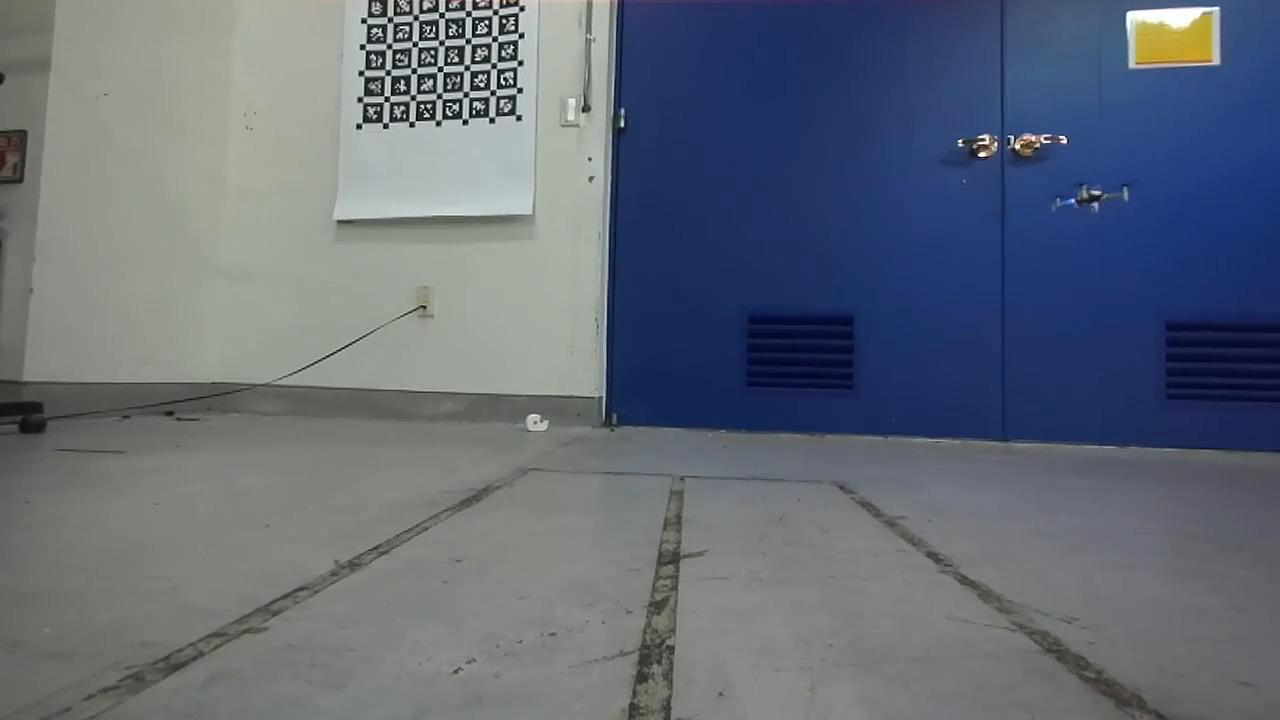crazyflie: (1049, 179, 1134, 218)
